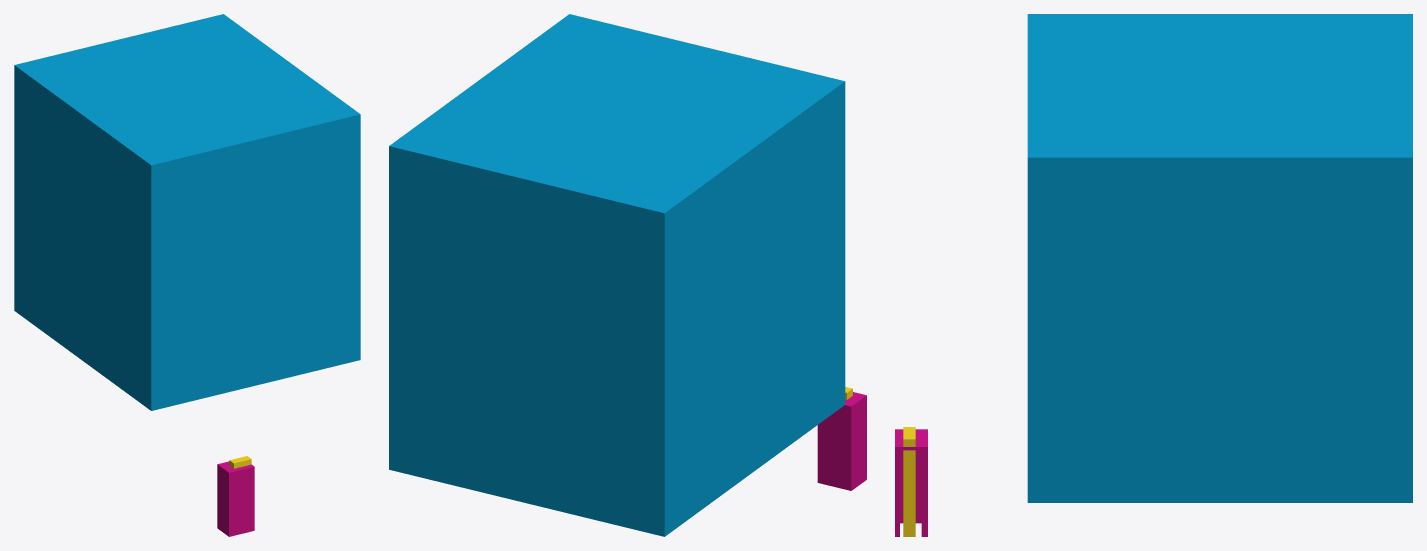
The model's file is tinker.obj.
3 views of the same model, side by side, from view 1: azimuth 30°, elevation 25°; view 2: azimuth 150°, elevation 25°; view 3: azimuth 270°, elevation 25° (orthographic). The views are drawn at different scales.
Parts seen in each view (by area): view 1: group_0_40919, group_0_14093196; view 2: group_0_40919, group_0_14093196; view 3: group_0_40919, group_0_14093196, group_0_16768282.
Part boxes in pixels (x1,y1,x2,y2): group_0_40919: (14, 14, 360, 410); group_0_14093196: (217, 461, 254, 536); group_0_40919: (389, 14, 845, 536); group_0_14093196: (817, 392, 866, 490); group_0_40919: (1027, 14, 1412, 502); group_0_14093196: (895, 429, 927, 536); group_0_16768282: (903, 427, 915, 536).
Size of the model in its own units: 82 by 129 by 125.
